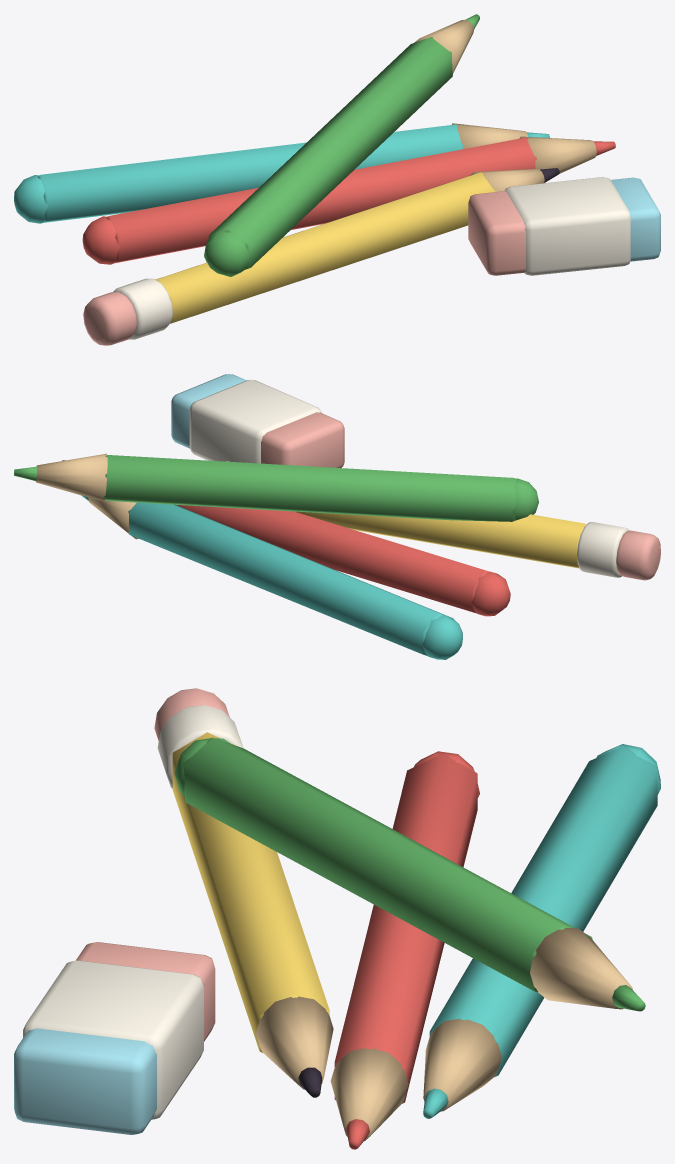
The model's file is pencils.glb.
3 renders of one model, top to bottom at view 1: azimuth 30°, elevation 25°; view 2: azimuth 150°, elevation 25°; view 3: azimuth 270°, elevation 25°, orthographic. The views are drawn at different scales.
Parts seen in each view (by area): view 1: ClutterPencils_LeafPencil, ClutterPencils_TurquoisePencil, ClutterPencils_CoralPencil, ClutterPencils_ButterBody, ClutterPencils_FerrulesAndSleeve, ClutterPencils_PeachErasers, ClutterPencils_WoodCones, ClutterPencils_SkyEraserEnd; view 2: ClutterPencils_LeafPencil, ClutterPencils_TurquoisePencil, ClutterPencils_CoralPencil, ClutterPencils_FerrulesAndSleeve, ClutterPencils_ButterBody, ClutterPencils_PeachErasers, ClutterPencils_WoodCones, ClutterPencils_SkyEraserEnd; view 3: ClutterPencils_LeafPencil, ClutterPencils_TurquoisePencil, ClutterPencils_WoodCones, ClutterPencils_CoralPencil, ClutterPencils_FerrulesAndSleeve, ClutterPencils_ButterBody, ClutterPencils_SkyEraserEnd, ClutterPencils_PeachErasers.
Part boxes in pixels (x1,y1,x2,y2): ClutterPencils_LeafPencil: (204,14,479,276); ClutterPencils_TurquoisePencil: (14,124,549,223); ClutterPencils_CoralPencil: (82,137,615,264); ClutterPencils_ButterBody: (156,172,496,323); ClutterPencils_FerrulesAndSleeve: (113,177,630,339); ClutterPencils_PeachErasers: (83,191,525,345); ClutterPencils_WoodCones: (414,19,596,191); ClutterPencils_SkyEraserEnd: (611,177,660,261); ClutterPencils_LeafPencil: (14,455,538,521); ClutterPencils_TurquoisePencil: (81,495,462,659); ClutterPencils_CoralPencil: (62,460,510,616); ClutterPencils_FerrulesAndSleeve: (189,379,629,577); ClutterPencils_ButterBody: (295,511,586,568); ClutterPencils_PeachErasers: (261,412,660,580); ClutterPencils_WoodCones: (36,453,229,539); ClutterPencils_SkyEraserEnd: (171,374,246,448); ClutterPencils_LeafPencil: (174,737,645,1011); ClutterPencils_TurquoisePencil: (423,744,660,1118); ClutterPencils_WoodCones: (256,928,633,1141); ClutterPencils_CoralPencil: (334,751,479,1149); ClutterPencils_FerrulesAndSleeve: (23,705,243,1119); ClutterPencils_ButterBody: (172,732,329,1052); ClutterPencils_SkyEraserEnd: (14,1028,156,1134); ClutterPencils_PeachErasers: (76,688,229,1041).
Size of the model in its own units: 0.2357 by 0.0436 by 0.1503.
